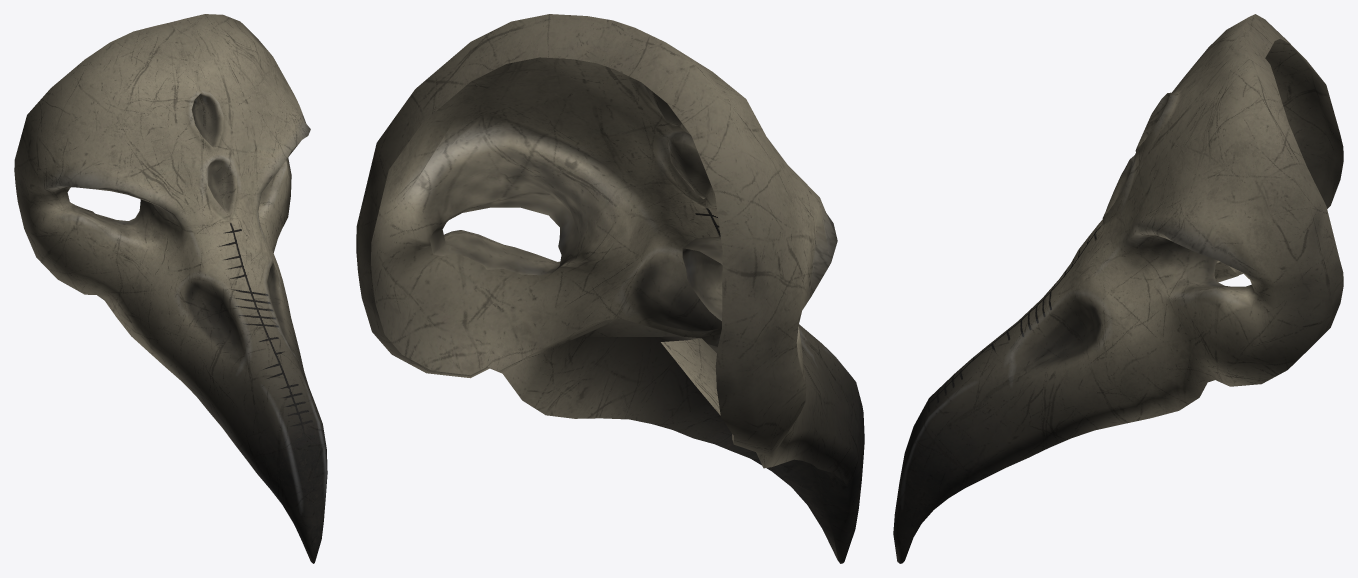
The model's file is Mask 2.0.fbx.
3 views of the same model, side by side, from view 1: azimuth 30°, elevation 25°; view 2: azimuth 150°, elevation 25°; view 3: azimuth 270°, elevation 25° (orthographic). The views are drawn at different scales.
Visible parts, largest first — view 1: R. Mask; view 2: R. Mask; view 3: R. Mask.
Part boxes in pixels (left/top/right/bottom): R. Mask: left=14, top=14, right=327, bottom=563; R. Mask: left=356, top=14, right=864, bottom=563; R. Mask: left=893, top=14, right=1343, bottom=563.
Size of the model in its own units: 13.96 by 22.62 by 17.44.
1 material, 1 textured.
